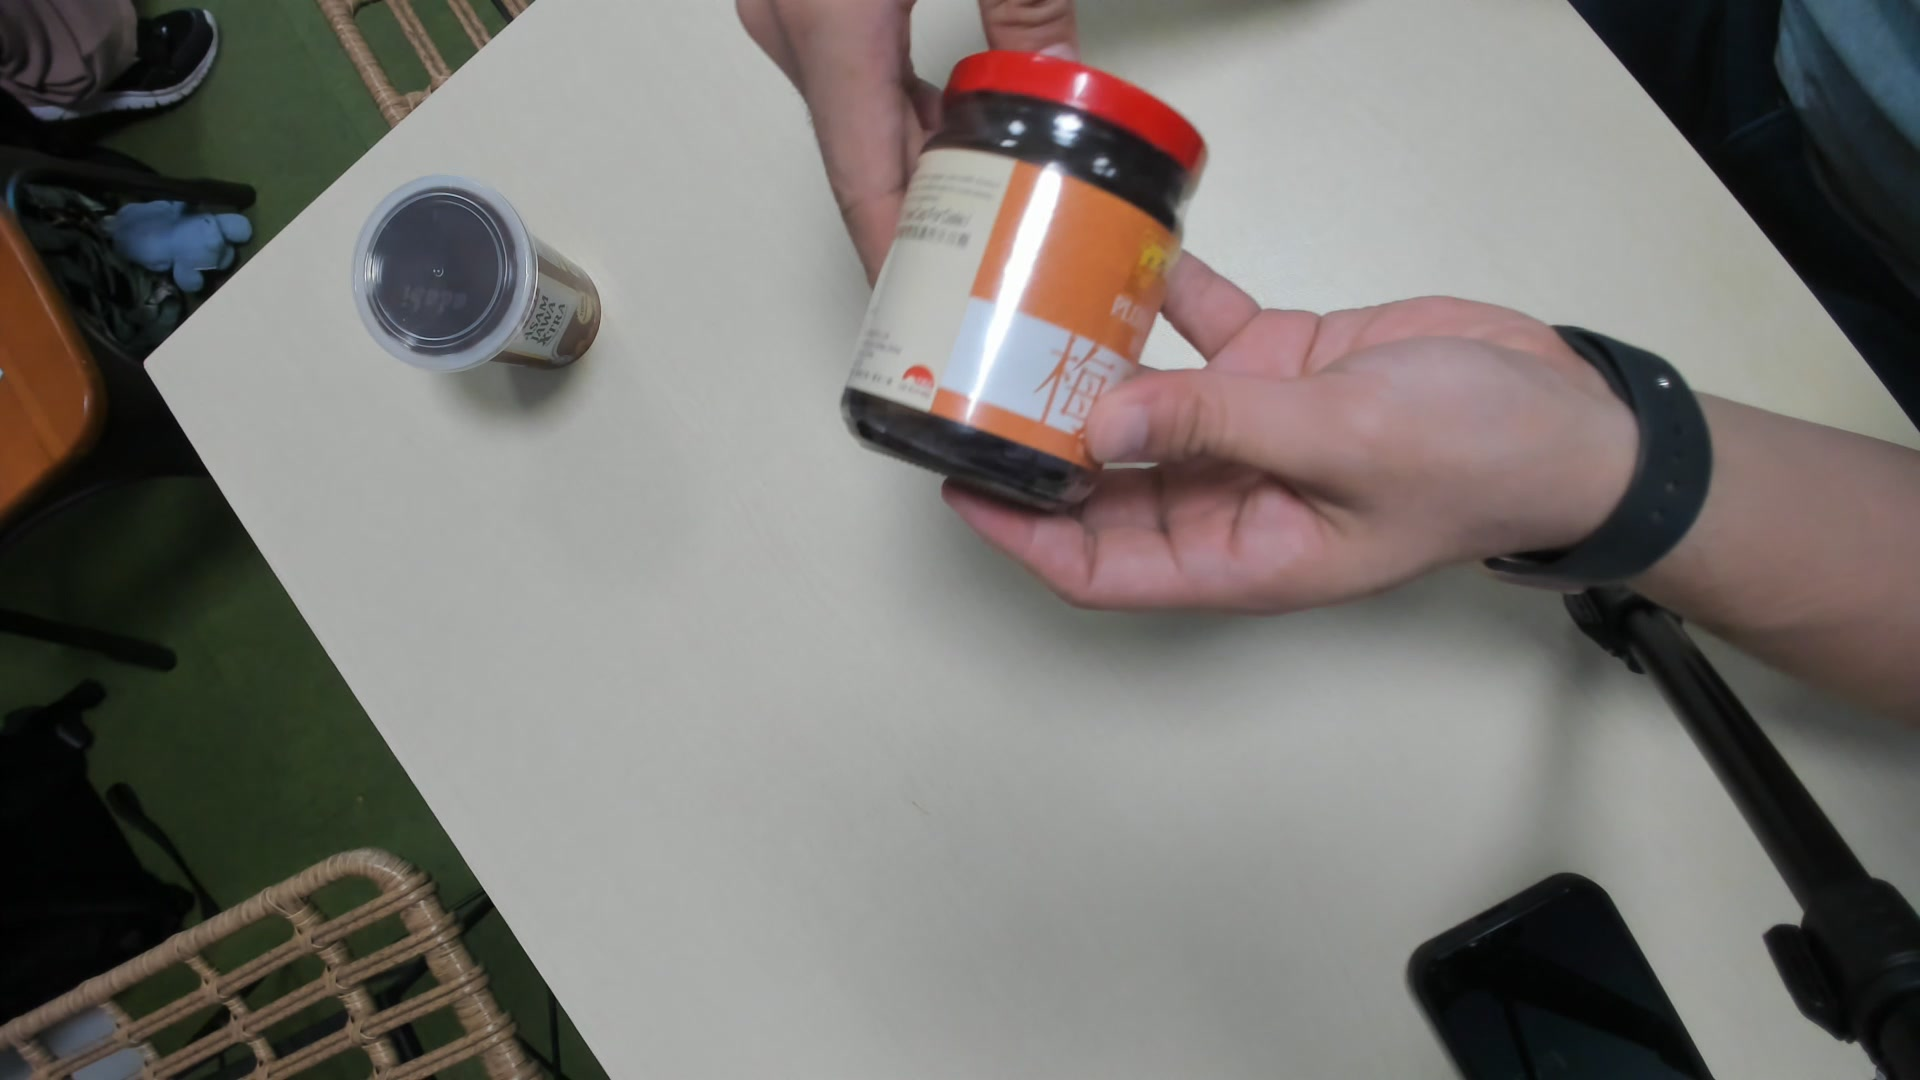OtherSauceDressing_200-299g_Halal_NonHealthy: (837, 44, 1207, 498)
